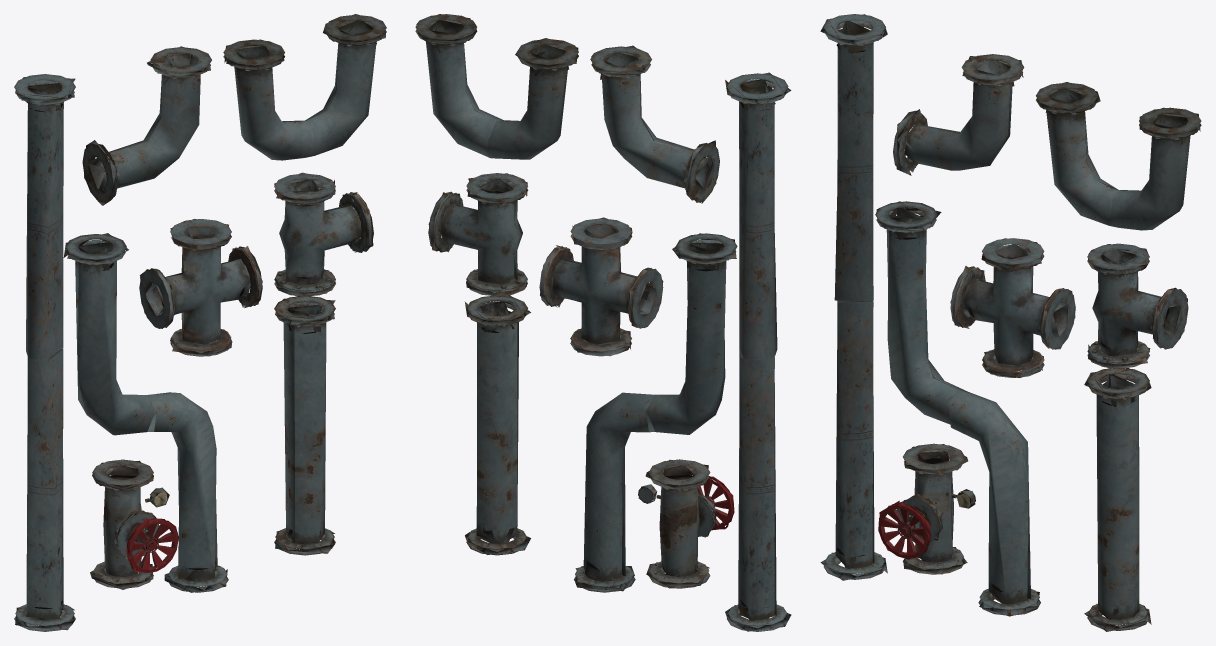
Rendered from modular_industrial_pipes_01_lod0.gltf.
The picture shows the model from 3 angles, left to right: view 1: azimuth 30°, elevation 25°; view 2: azimuth 150°, elevation 25°; view 3: azimuth 330°, elevation 25°; orthographic projection.
Parts seen in each view (by area): view 1: modular_industrial_pipes_01_lod0; view 2: modular_industrial_pipes_01_lod0; view 3: modular_industrial_pipes_01_lod0.
Part boxes in pixels (x1,y1,x2,y2): modular_industrial_pipes_01_lod0: (14,14,386,631); modular_industrial_pipes_01_lod0: (415,14,791,631); modular_industrial_pipes_01_lod0: (820,14,1201,631).
Bounding box in the file's own units: 1.42 × 1.95 × 0.3078.
Materials: 2 (2 with a texture image).
